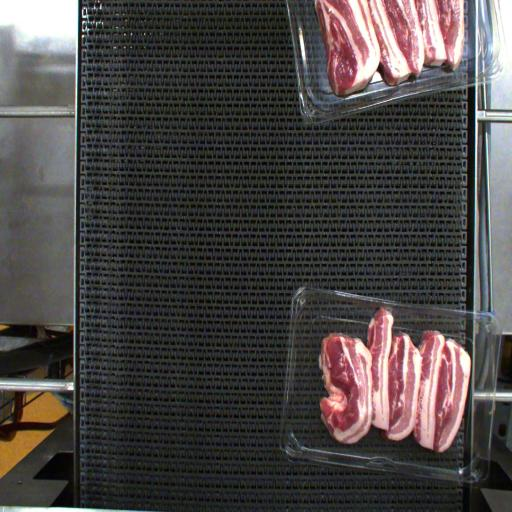packaging-error: (377, 303, 395, 317)
